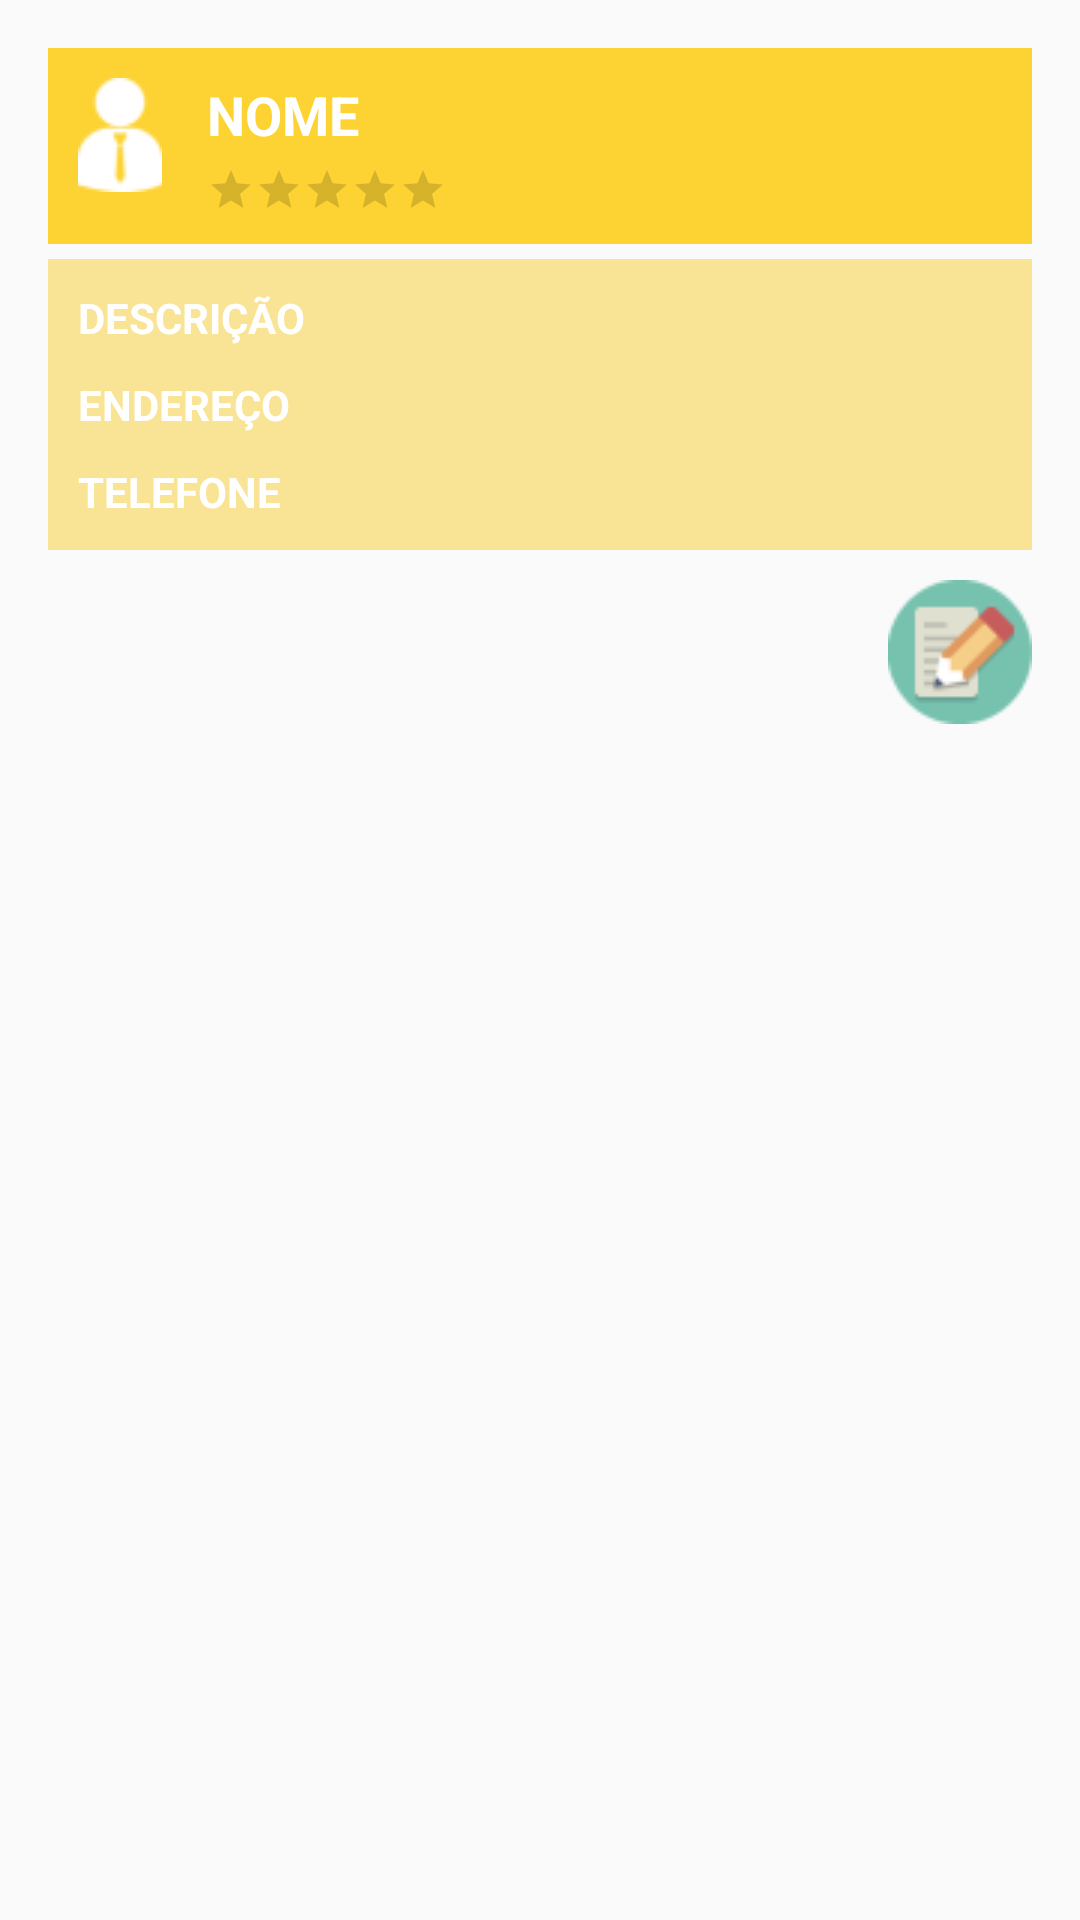

Locate icon controls on the screen. Image size 1080 × 1920, boxes as (x1=x1, y1=y1, x2=x2, y2=y2).
Editar: (x1=888, y1=580, x2=1032, y2=724)
